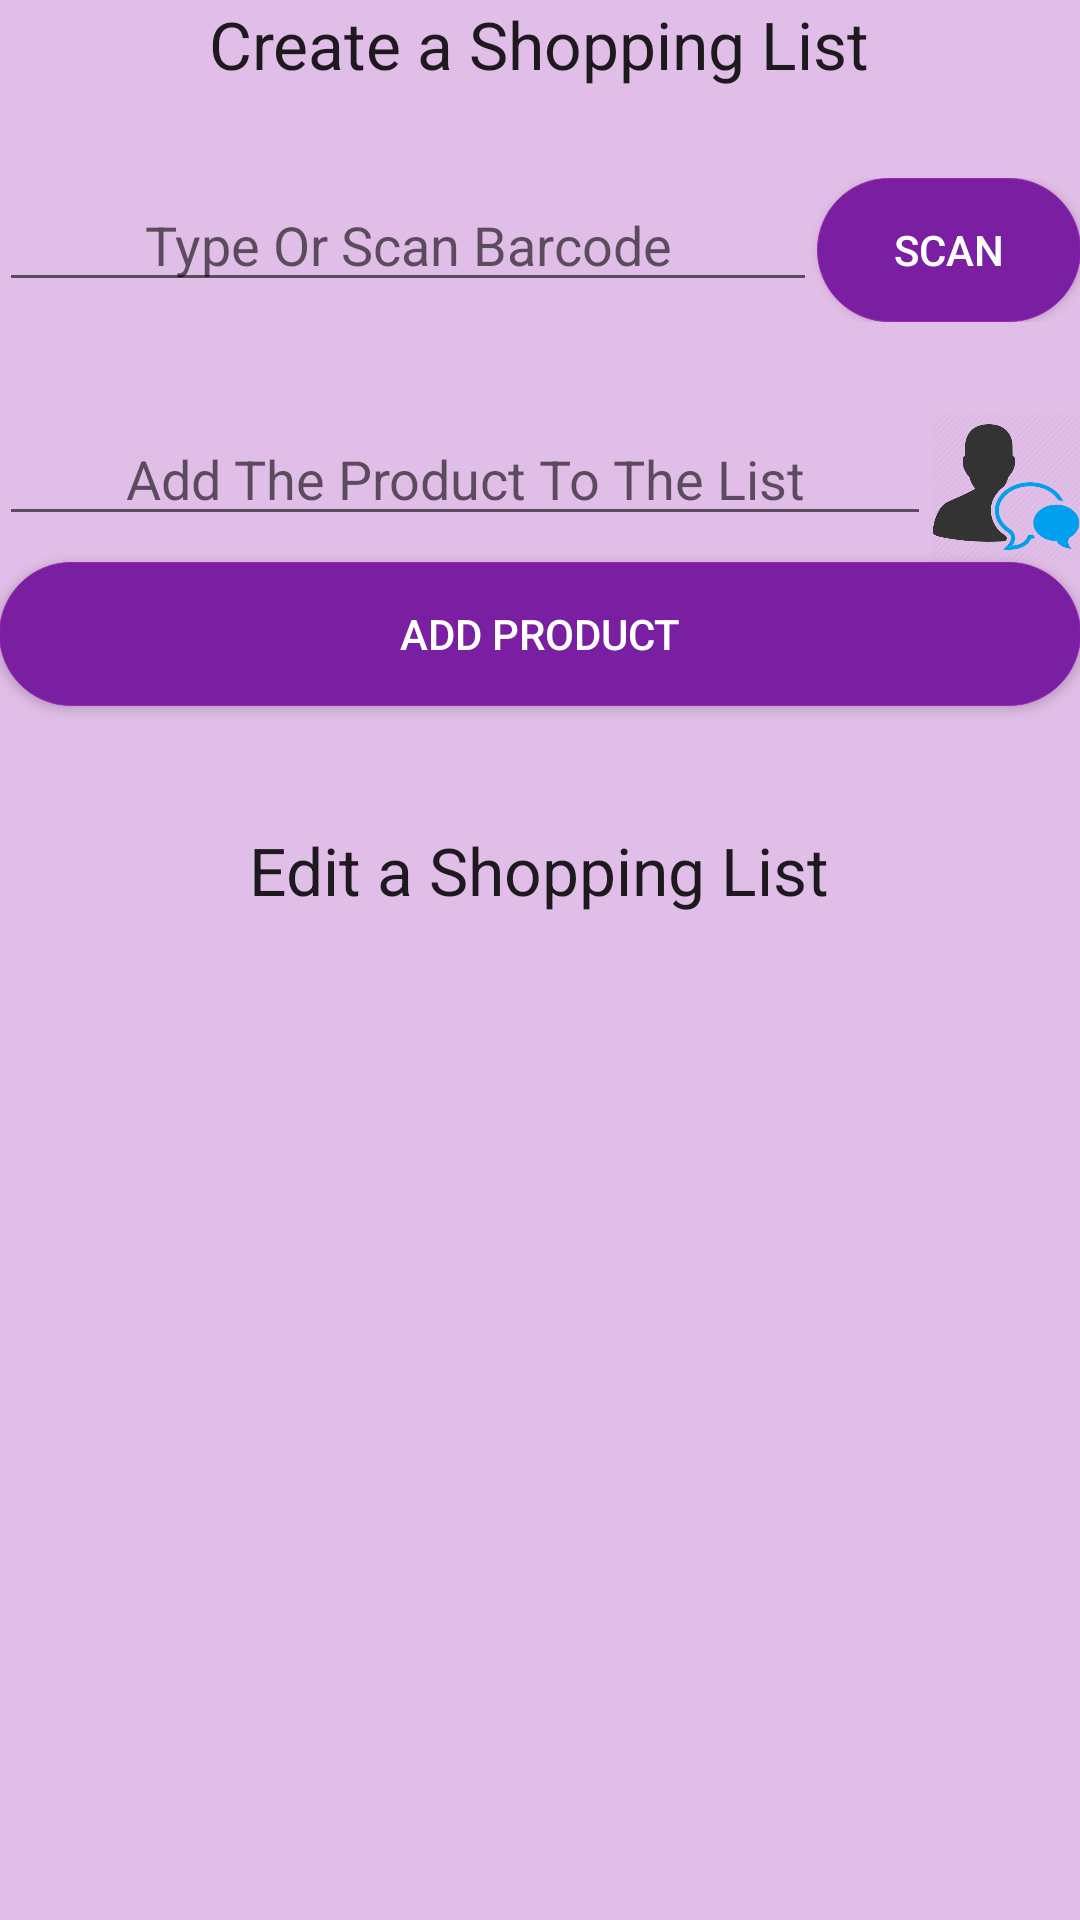

Icons on this 1080px×1920px Android screen, each with its box as (x1, y1, x2, y2):
voice: (933, 424, 1079, 550)
